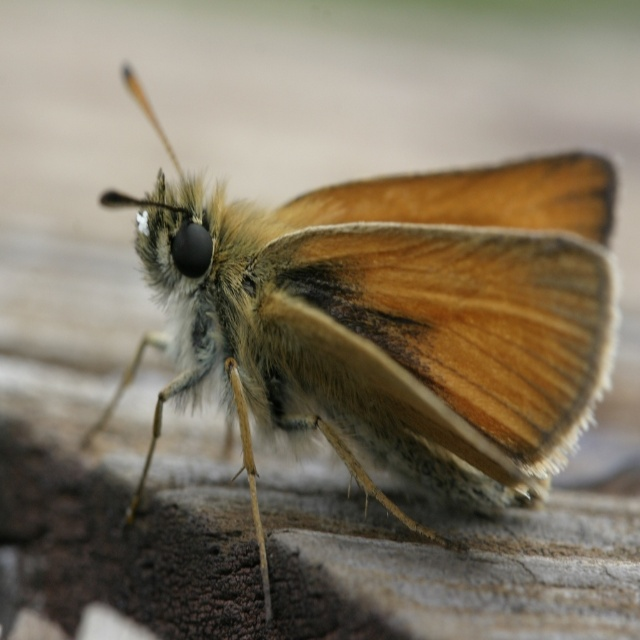Butterfly: (81, 58, 621, 546)
